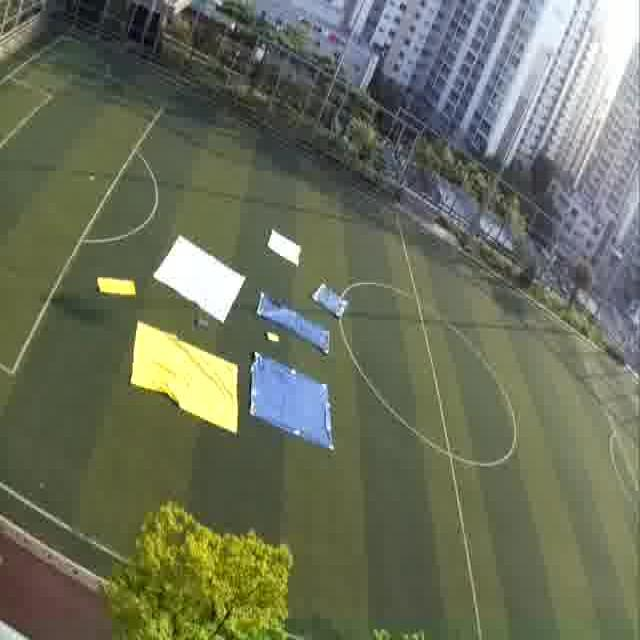danger: (251, 361, 331, 446), (314, 279, 348, 319), (259, 295, 299, 326)
safety: (161, 246, 241, 310), (267, 228, 303, 268)
warning: (136, 334, 230, 416), (96, 276, 135, 301)
